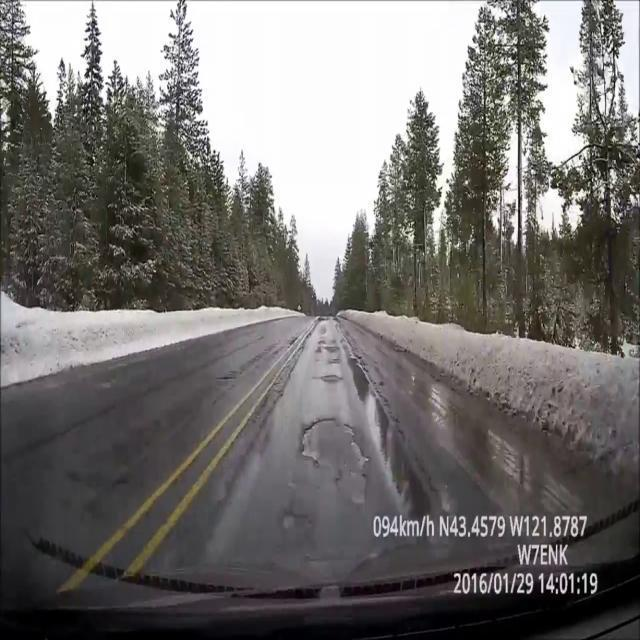pothole: (300, 422, 373, 504), (321, 375, 340, 382), (215, 376, 235, 381), (326, 346, 339, 351)
